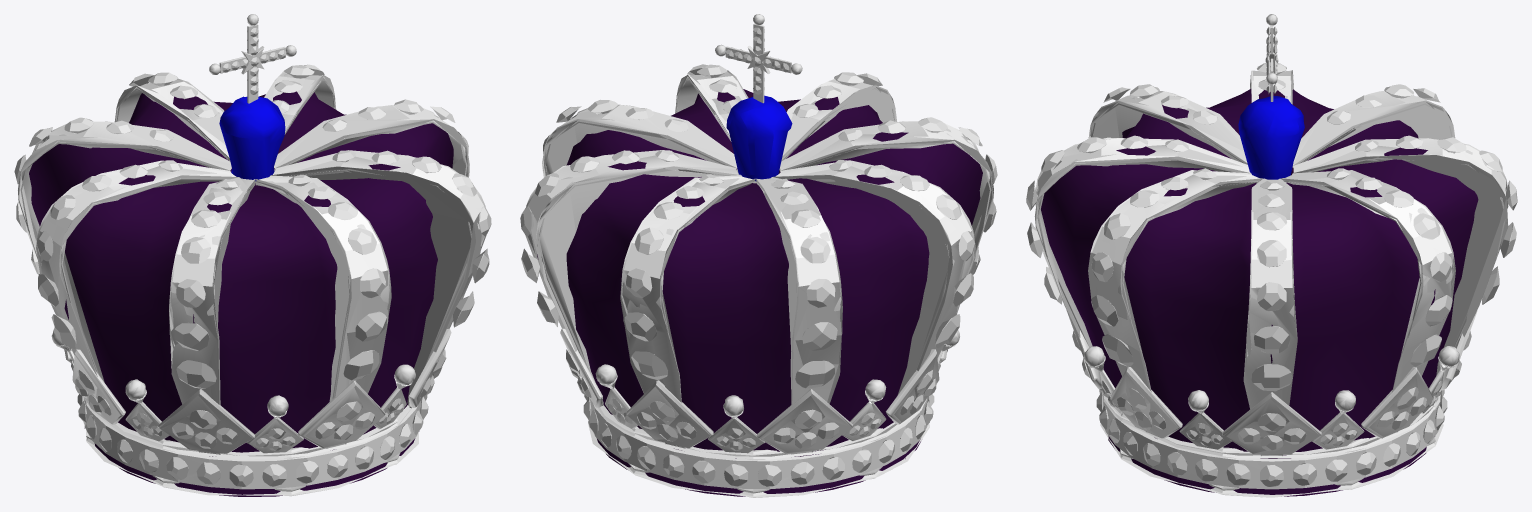
The model's file is crown.fbx.
3 views of the same model, side by side, from view 1: azimuth 30°, elevation 25°; view 2: azimuth 150°, elevation 25°; view 3: azimuth 270°, elevation 25° (orthographic).
Visible parts, largest first — view 1: the emperor's crown.001, fabric; view 2: the emperor's crown.001, fabric; view 3: the emperor's crown.001, fabric.
Part boxes in pixels (x1,y1,x2,y2): the emperor's crown.001: (14,14,491,496); fabric: (29,91,453,496); the emperor's crown.001: (520,14,997,497); fabric: (537,89,982,496); the emperor's crown.001: (1026,14,1517,497); fabric: (1041,89,1478,496).
Bounding box in the file's own units: 27.33 × 25.28 × 27.33.
